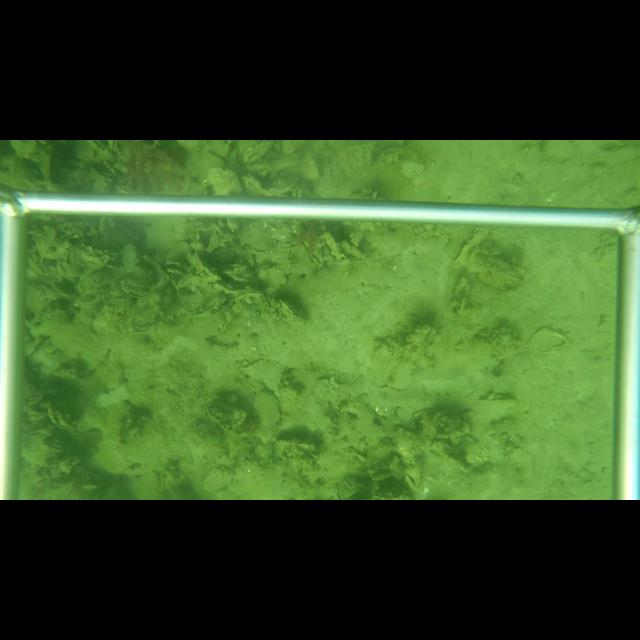Oyster-Closed: (251, 390, 283, 430), (242, 141, 276, 165), (301, 238, 322, 269), (122, 243, 139, 271), (389, 456, 405, 482), (235, 290, 263, 303), (278, 297, 297, 315), (98, 217, 107, 232)
Oyster-Open: (121, 281, 147, 299), (162, 261, 189, 277)
